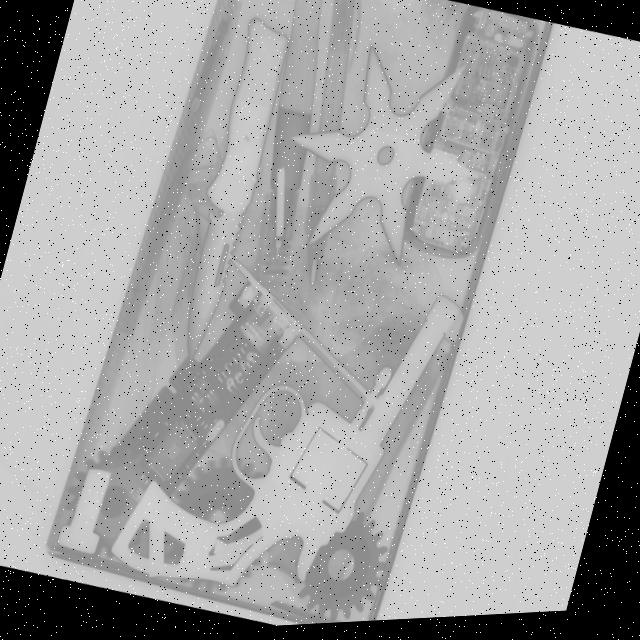knife: (160, 15, 300, 354)
pistol: (107, 229, 467, 636)
